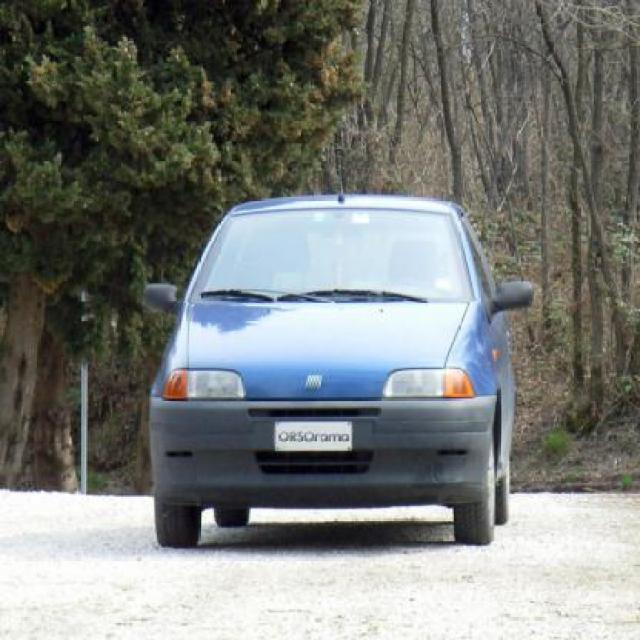License-Plates: (275, 421, 351, 451)
